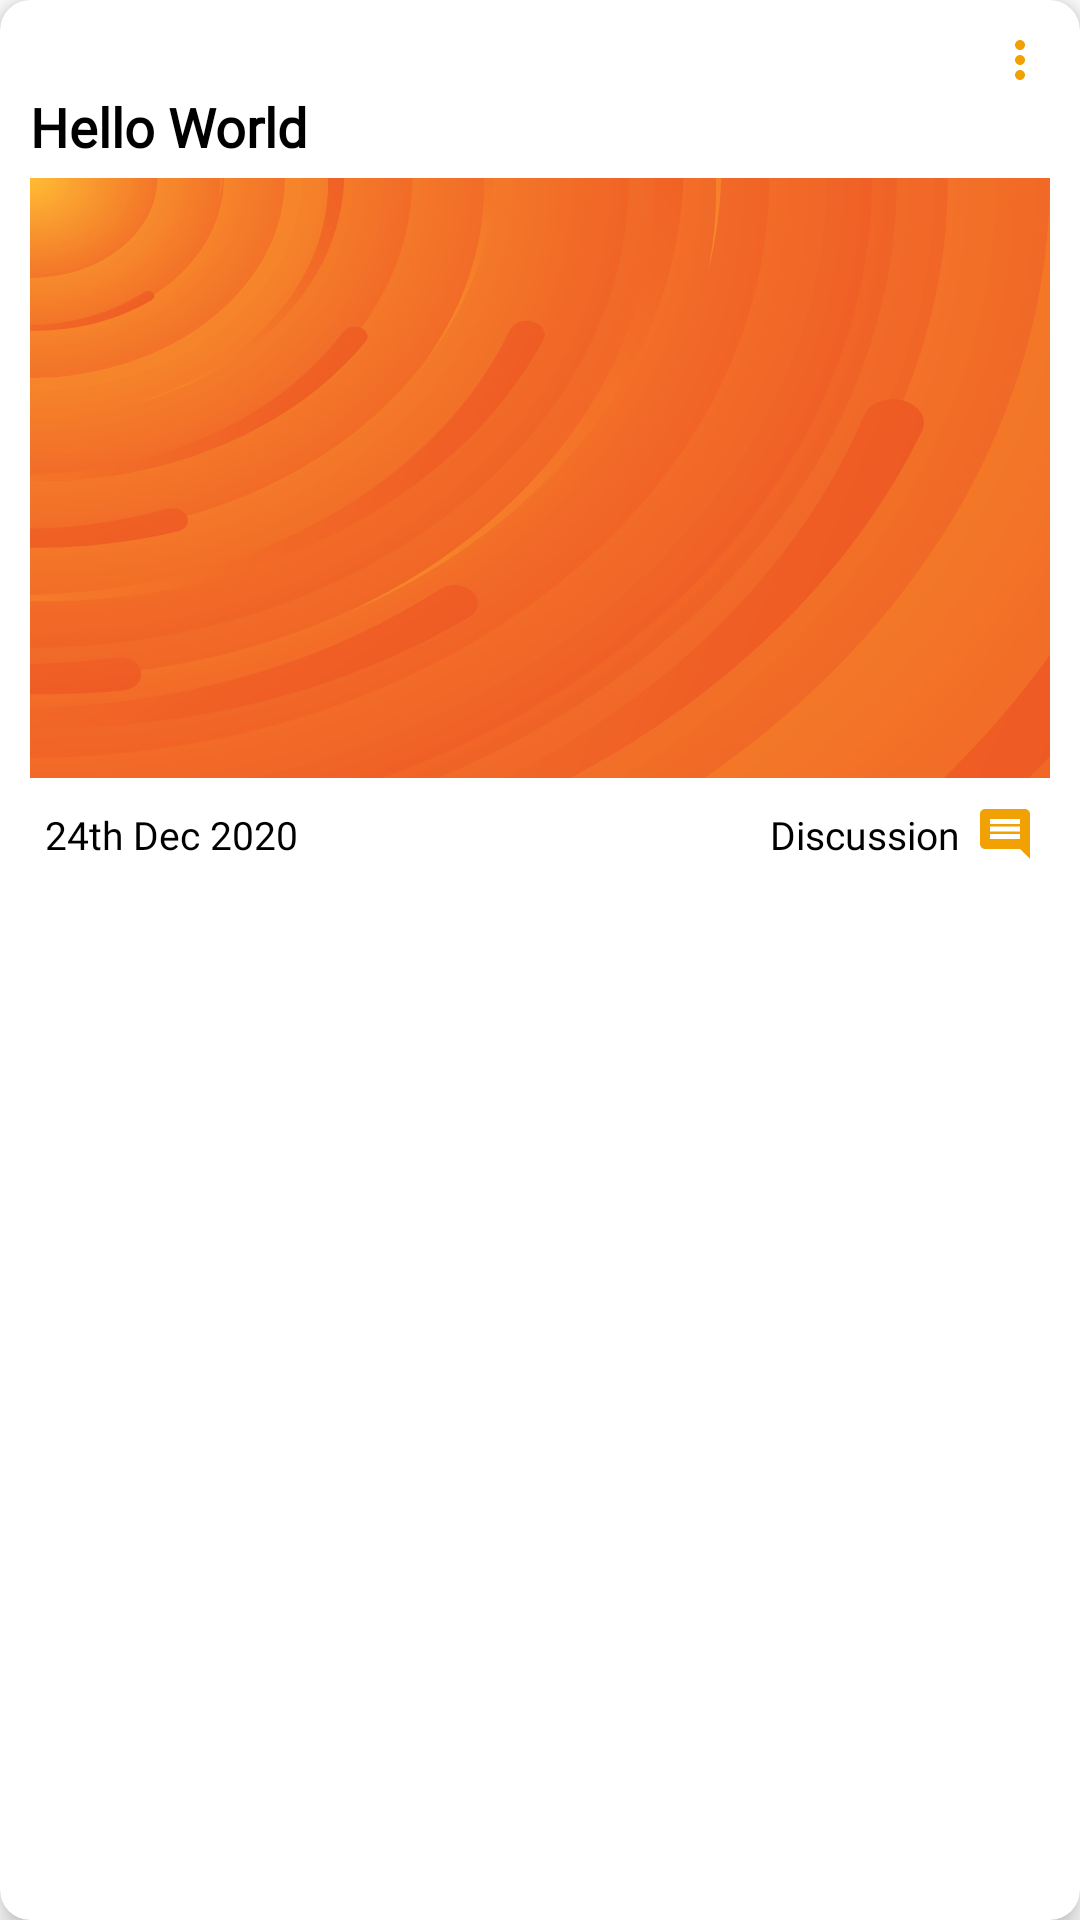

Locate icon controls on the screen. Image size 1080w x 1920h, boxes as (x1, y1, x2, y2).
comment: (980, 809, 1030, 859)
more vert: (1015, 40, 1025, 80)
